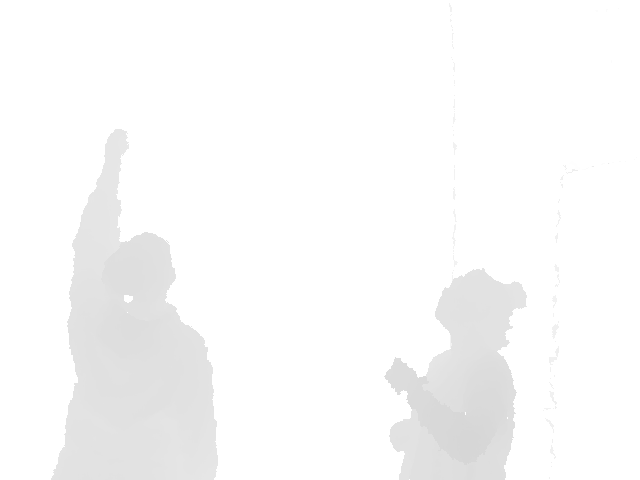hand: (103, 127, 130, 178)
head: (435, 269, 514, 352), (102, 231, 177, 314)
person: (49, 127, 220, 480), (384, 269, 529, 480)
